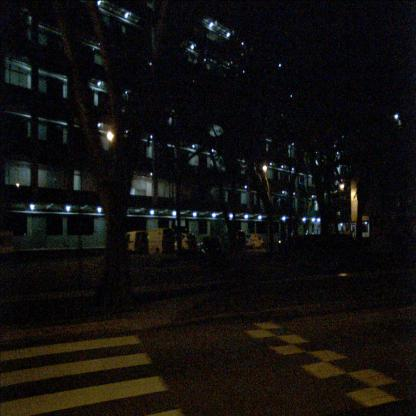vehicle-car: (168, 231, 197, 253), (123, 231, 148, 256), (199, 235, 222, 258), (244, 233, 267, 250), (224, 231, 246, 248)
vehicle-truck: (139, 228, 175, 260)
